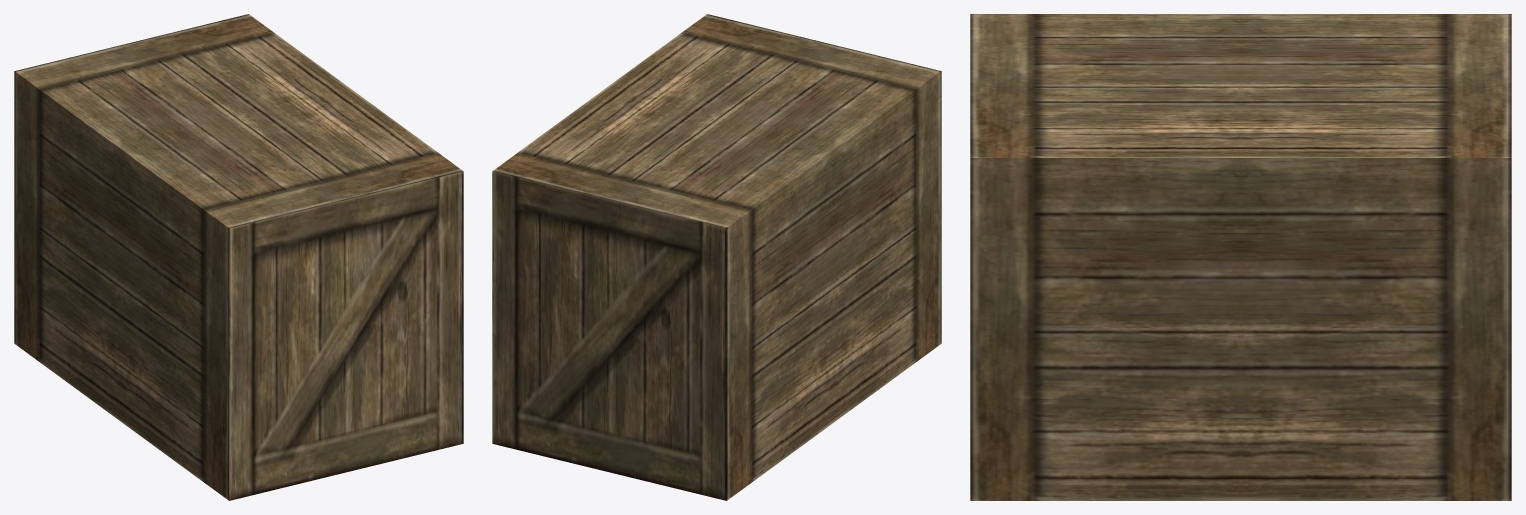
The model's file is crate_04.fbx.
The picture shows the model from 3 angles, left to right: view 1: azimuth 30°, elevation 25°; view 2: azimuth 150°, elevation 25°; view 3: azimuth 270°, elevation 25°; orthographic projection. The views are drawn at different scales.
Parts seen in each view (by area): view 1: crate, Top; view 2: crate, Top; view 3: crate, Top.
Boxes of the visible parts, left/top/right/bottom form: crate: left=14, top=71, right=463, bottom=500; Top: left=14, top=14, right=462, bottom=228; crate: left=492, top=71, right=941, bottom=500; Top: left=493, top=14, right=941, bottom=228; crate: left=970, top=158, right=1511, bottom=500; Top: left=970, top=14, right=1511, bottom=157.
Size of the model in its own units: 252 by 280 by 400.
Materials: 1 (1 with a texture image).
